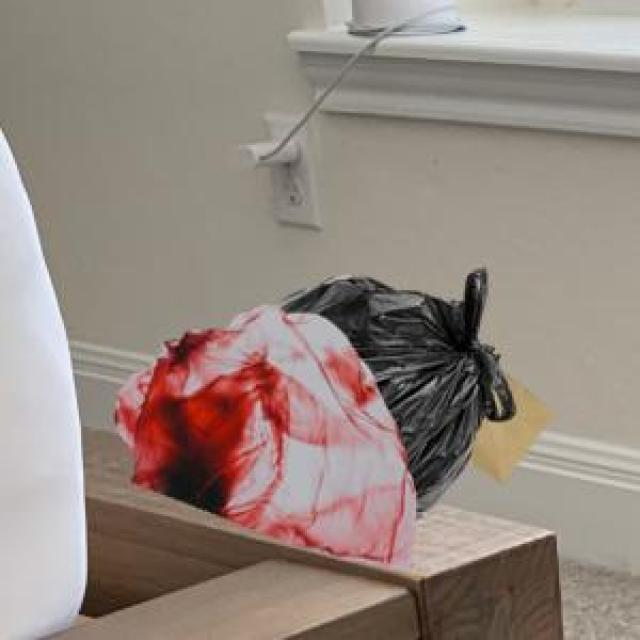miscellaneous trash: (273, 265, 512, 514)
paper: (463, 369, 550, 480)
